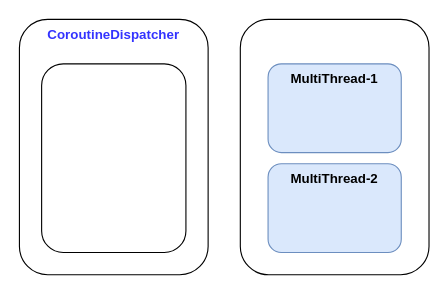
Some shapes in this 448 by 294 pixel diagram are drawn without their labels. The shapes that lost their labels are listed below. From the top down, each one's box as (x1, y1, x2, y2) in pixels, then its label:
(41, 63, 186, 253): 작업 대기열
(239, 18, 429, 275): 스레드풀
